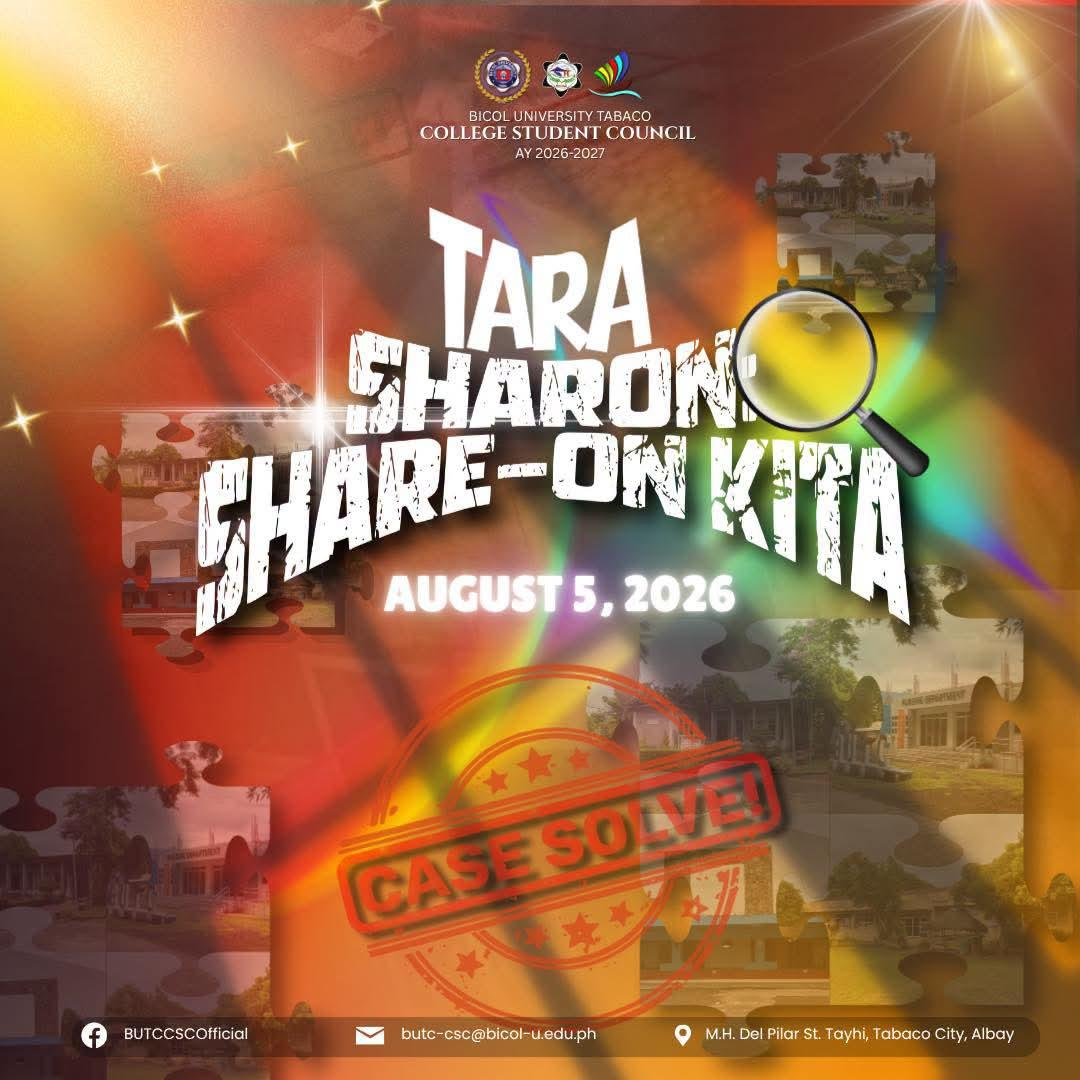embellishment: (581, 554, 1079, 1065), (330, 651, 794, 1039), (1, 733, 319, 1079), (87, 374, 381, 667), (725, 123, 943, 477), (147, 288, 213, 352), (3, 386, 53, 449), (274, 126, 315, 166), (137, 146, 172, 185), (363, 0, 393, 25)
logo: (470, 44, 537, 108), (588, 44, 648, 104), (535, 48, 588, 103), (75, 1016, 110, 1054), (350, 1020, 388, 1051), (671, 1020, 696, 1050)
text: (188, 192, 925, 654), (376, 566, 741, 621), (414, 106, 703, 165), (701, 1019, 1021, 1047), (395, 1022, 605, 1047), (118, 1023, 252, 1045)
underlay: (0, 0, 1079, 1079)
